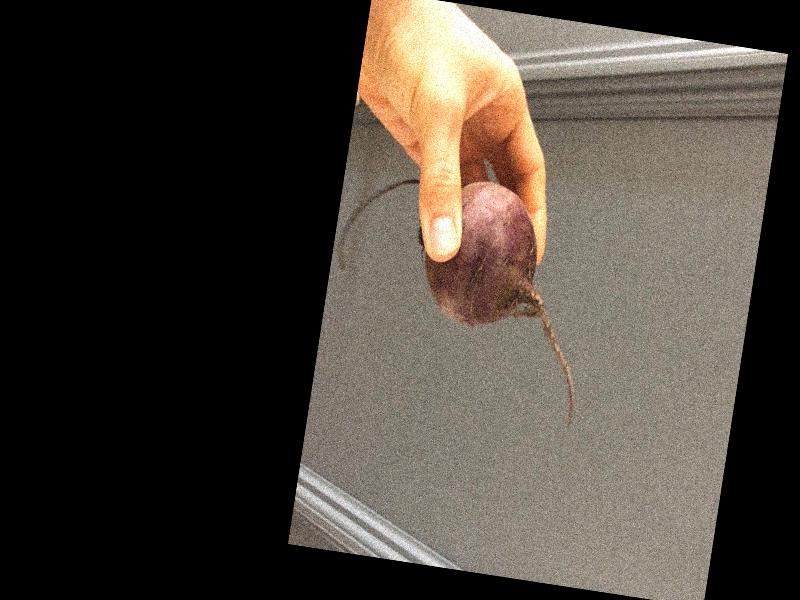Beet: (316, 161, 604, 429)
